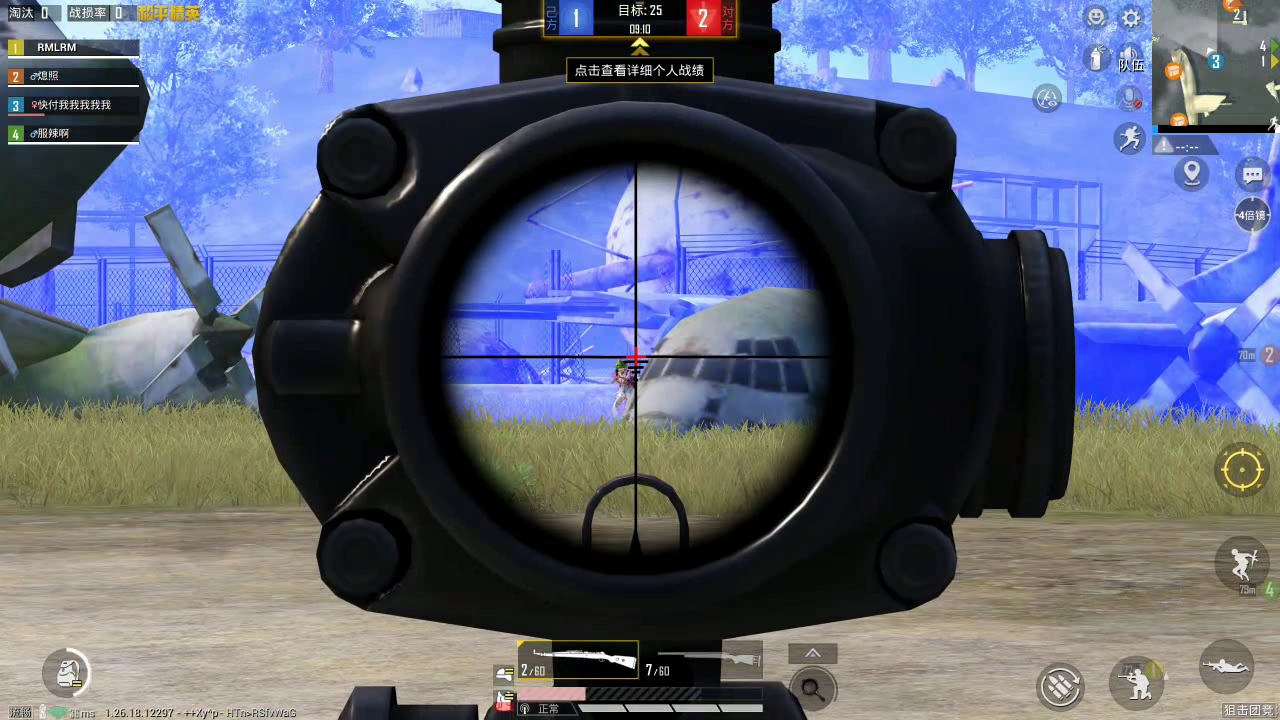enemy: (609, 356, 640, 424)
